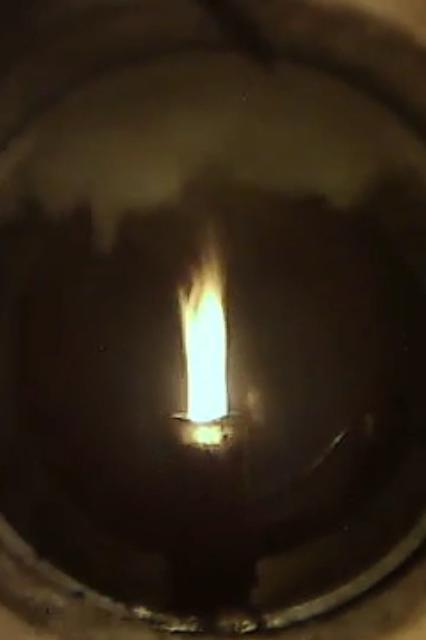burner flame: (176, 218, 232, 426)
